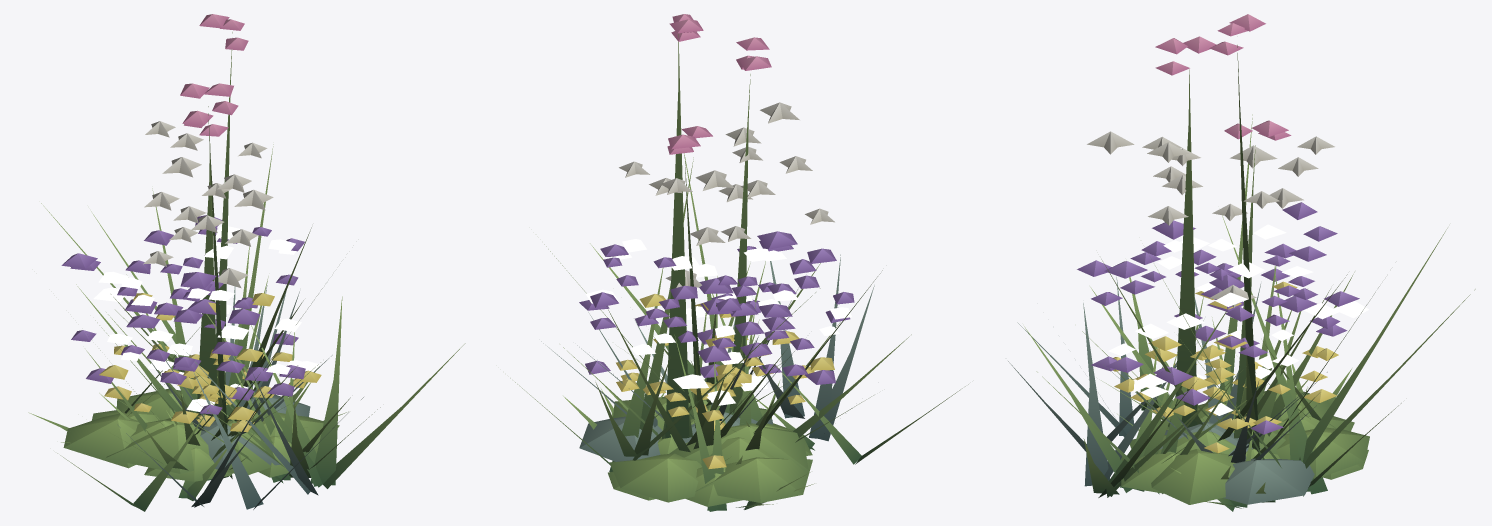
The model's file is flower_pack.glb.
The picture shows the model from 3 angles, left to right: view 1: azimuth 30°, elevation 25°; view 2: azimuth 150°, elevation 25°; view 3: azimuth 270°, elevation 25°; orthographic projection. The views are drawn at different scales.
Parts seen in each view (by area): view 1: flower_violet_cluster, flower_bicolor_mix, flower_pale_glow, flower_white_star, flower_tall_stalk, flower_yellow_clover; view 2: flower_violet_cluster, flower_tall_stalk, flower_bicolor_mix, flower_pale_glow, flower_white_star, flower_yellow_clover; view 3: flower_violet_cluster, flower_pale_glow, flower_bicolor_mix, flower_white_star, flower_tall_stalk, flower_yellow_clover.
Boxes of the visible parts, x1=… form: flower_violet_cluster: x1=61, y1=215, x2=465, y2=488; flower_bicolor_mix: x1=57, y1=238, x2=380, y2=511; flower_pale_glow: x1=93, y1=226, x2=363, y2=509; flower_white_star: x1=41, y1=121, x2=322, y2=481; flower_tall_stalk: x1=99, y1=14, x2=248, y2=478; flower_yellow_clover: x1=28, y1=344, x2=348, y2=500; flower_violet_cluster: x1=510, y1=231, x2=911, y2=511; flower_tall_stalk: x1=661, y1=14, x2=808, y2=470; flower_bicolor_mix: x1=563, y1=259, x2=968, y2=502; flower_pale_glow: x1=541, y1=239, x2=874, y2=461; flower_white_star: x1=544, y1=102, x2=882, y2=506; flower_yellow_clover: x1=563, y1=330, x2=814, y2=509; flower_violet_cluster: x1=1077, y1=202, x2=1401, y2=497; flower_pale_glow: x1=1008, y1=224, x2=1368, y2=504; flower_bicolor_mix: x1=1024, y1=241, x2=1340, y2=504; flower_white_star: x1=1087, y1=114, x2=1475, y2=494; flower_tall_stalk: x1=1117, y1=14, x2=1307, y2=453; flower_yellow_clover: x1=1113, y1=344, x2=1351, y2=511.
Bounding box in the file's own units: 0.4708 × 0.4912 × 0.4606.
